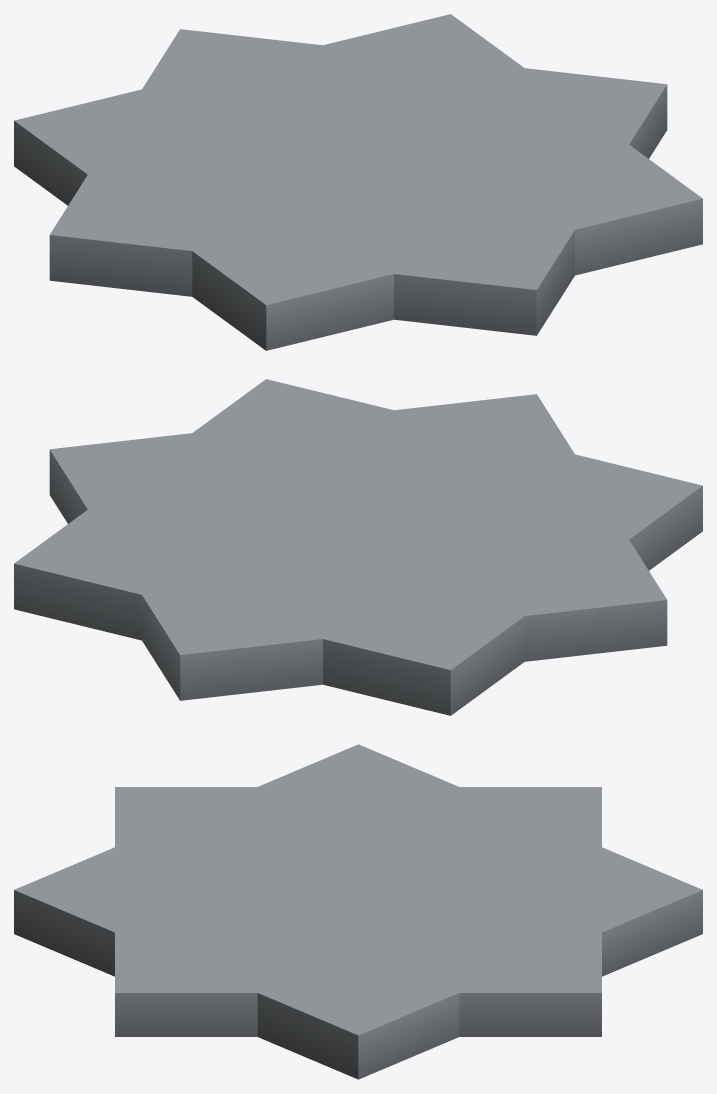
File: shuriken.glb
3 views of the same model, one above another, from view 1: azimuth 30°, elevation 25°; view 2: azimuth 150°, elevation 25°; view 3: azimuth 270°, elevation 25° (orthographic). The views are drawn at different scales.
Visible parts, largest first — view 1: shuriken; view 2: shuriken; view 3: shuriken.
Part boxes in pixels (box(x1,y1,x2,y2)): shuriken: box(14, 14, 702, 350); shuriken: box(14, 379, 702, 715); shuriken: box(14, 744, 702, 1079).
Bounding box in the file's own units: 0.2828 × 0.02 × 0.2828.
Materials: 1 (1 with a texture image).
